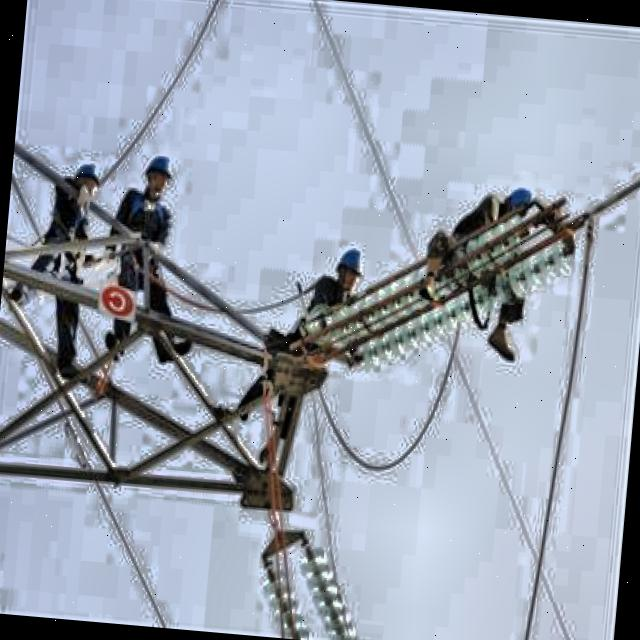helmet: (132, 150, 182, 213), (490, 177, 534, 231), (331, 238, 369, 290), (70, 155, 103, 202)
